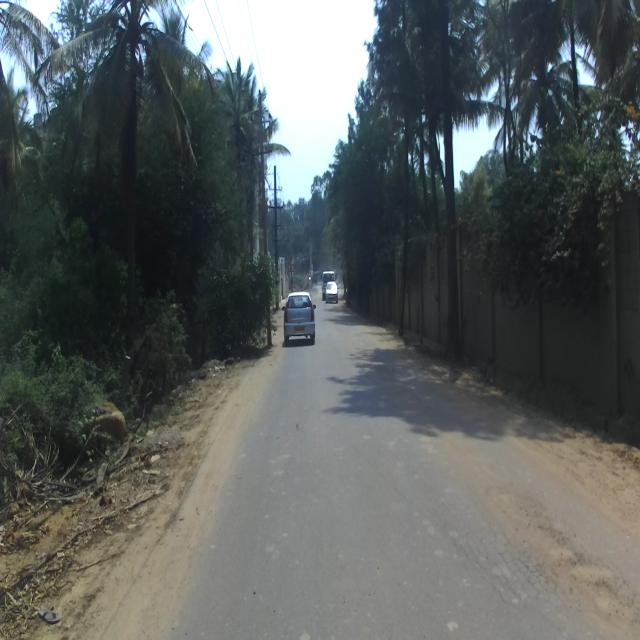car ahead at: (283, 289, 318, 351)
tree ahead at: (94, 0, 170, 390)
